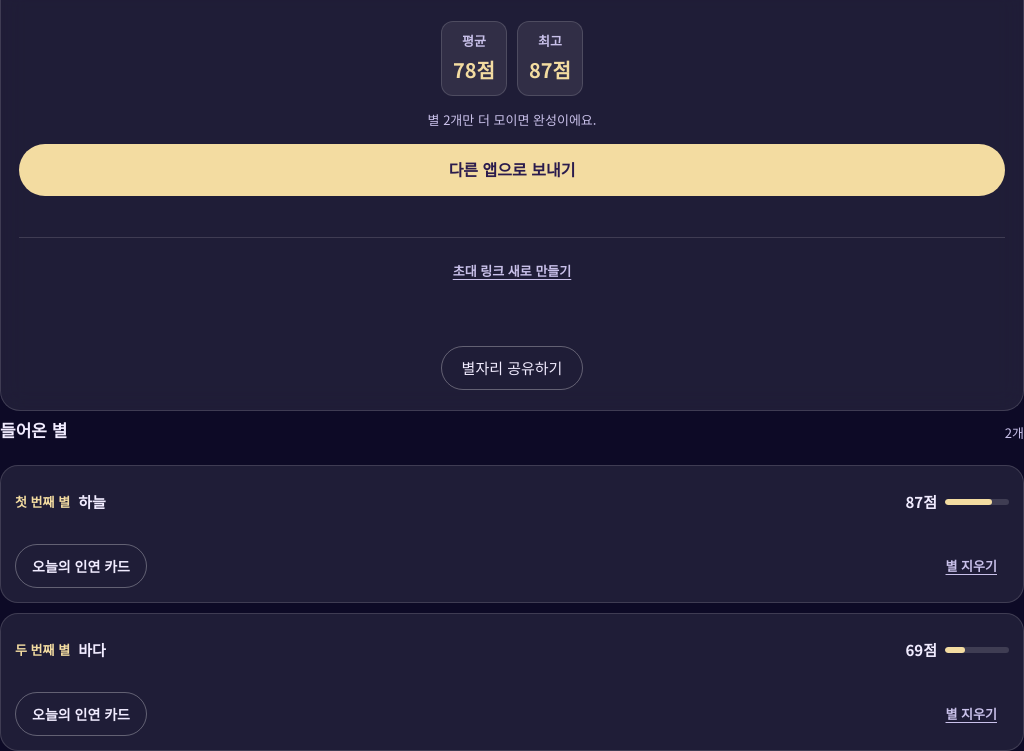
Test: BondsView 인연 점수 한눈에 and 공유하기 (owner 2026-10-23) › shares the constellation's own link: 공유하기 makes /s/<id> from the owner's constellation
(page scrolled)
Click the button "별자리 공유하기" at coordinates (512, 368), box x1=441 y1=346 x2=583 y2=390
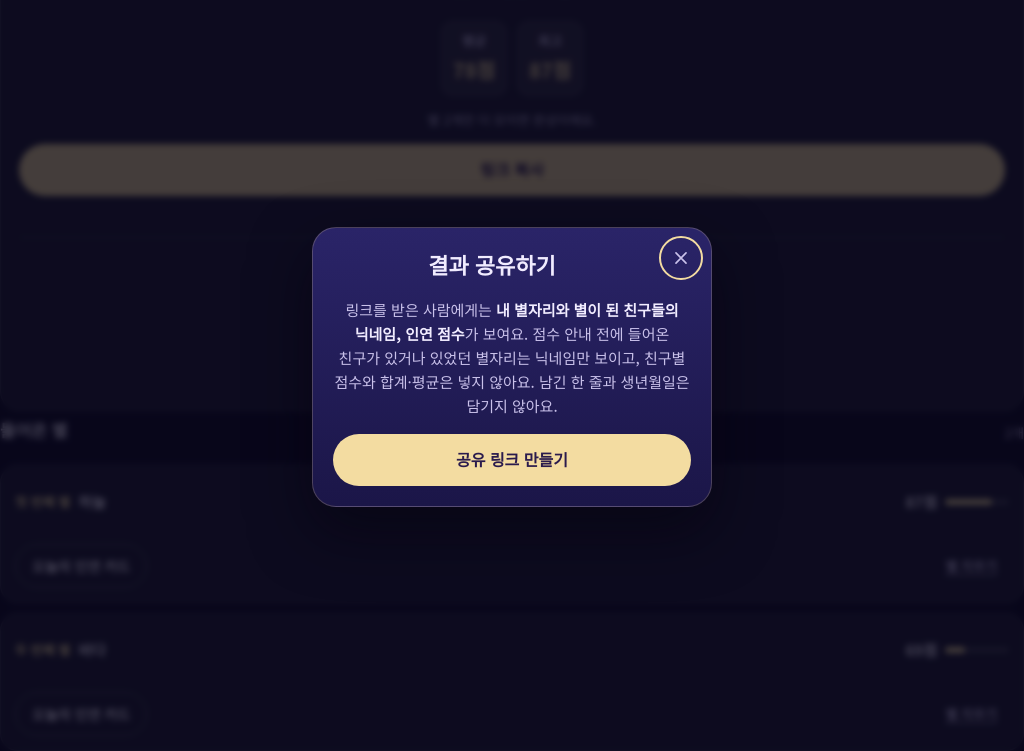
Expected: the dialog "결과 공유하기" shows "내 별자리와 별이 된 친구들의 닉네임, 인연 점수가 보여요", x1=312 y1=227 x2=712 y2=507
Expected: the dialog "결과 공유하기" shows "점수 안내 전에 들어온 친구가 있거나 있었던 별자리는 닉네임만 보이고, 친구별 점수와 합계·평균은 넣지 않아요. 남긴 한 줄과 생년월일은 담기지 않아요.", x1=334 y1=323 x2=690 y2=416
Click the button "공유 링크 만들기" at coordinates (512, 460), box x1=333 y1=434 x2=691 y2=486
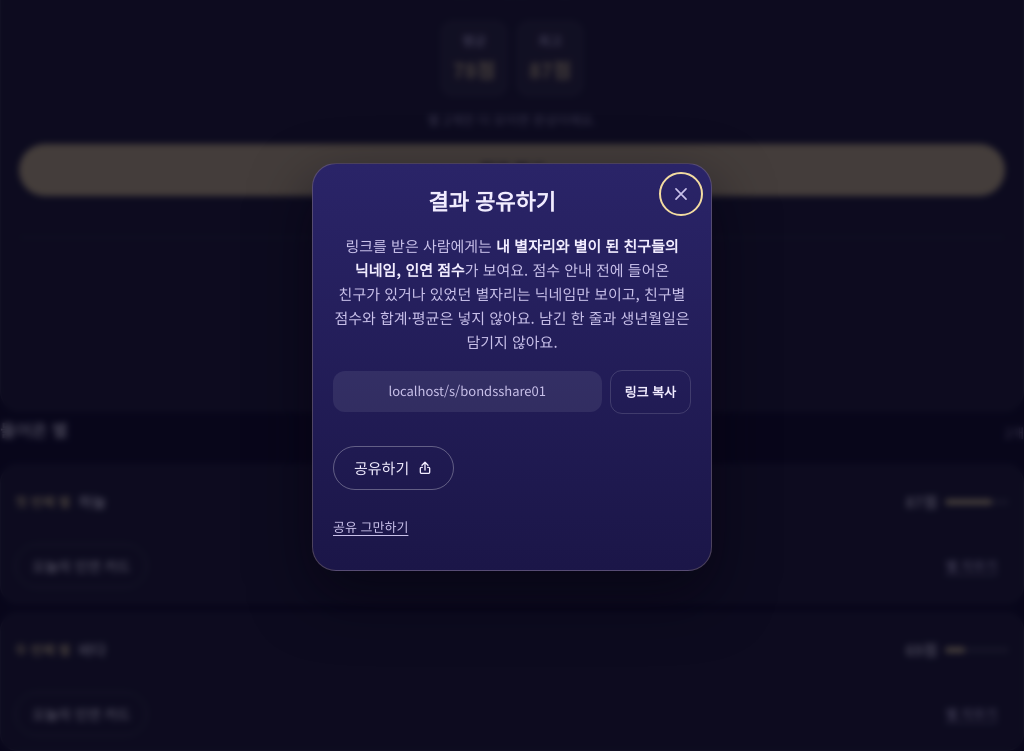
Expected: the dialog "결과 공유하기" shows "/s/bondsshare01", x1=388 y1=381 x2=546 y2=400
